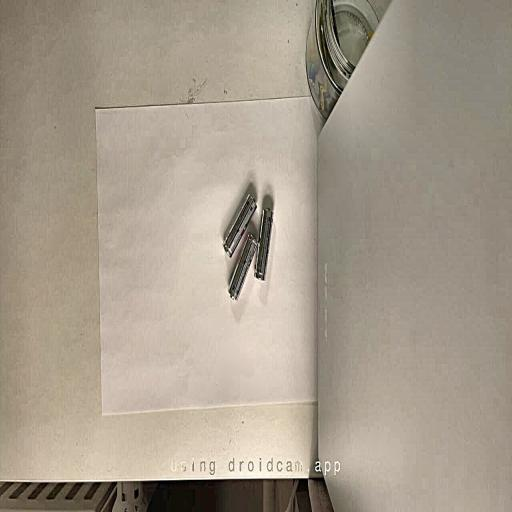RainbowAA: (223, 195, 256, 257), (228, 233, 258, 299), (254, 208, 272, 280)
